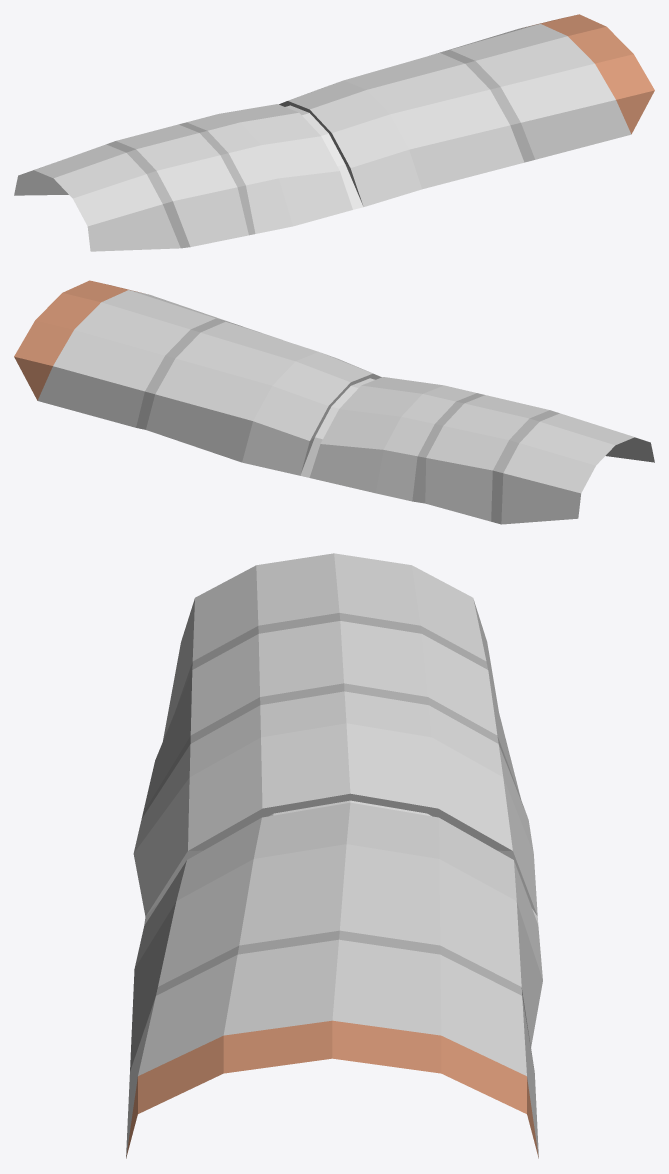
The model's file is BatteryShieldUpg.fbx.
The picture shows the model from 3 angles, top to bottom: view 1: azimuth 30°, elevation 25°; view 2: azimuth 150°, elevation 25°; view 3: azimuth 270°, elevation 25°; orthographic projection. The views are drawn at different scales.
Visible parts, largest first — view 1: BaterrySp; view 2: BaterrySp; view 3: BaterrySp.
Part boxes in pixels (box(x1,y1,x2,y2)): BaterrySp: box(14, 14, 654, 251); BaterrySp: box(14, 280, 654, 524); BaterrySp: box(126, 553, 542, 1158).
Size of the model in its own units: 83.71 by 11.86 by 27.29.
